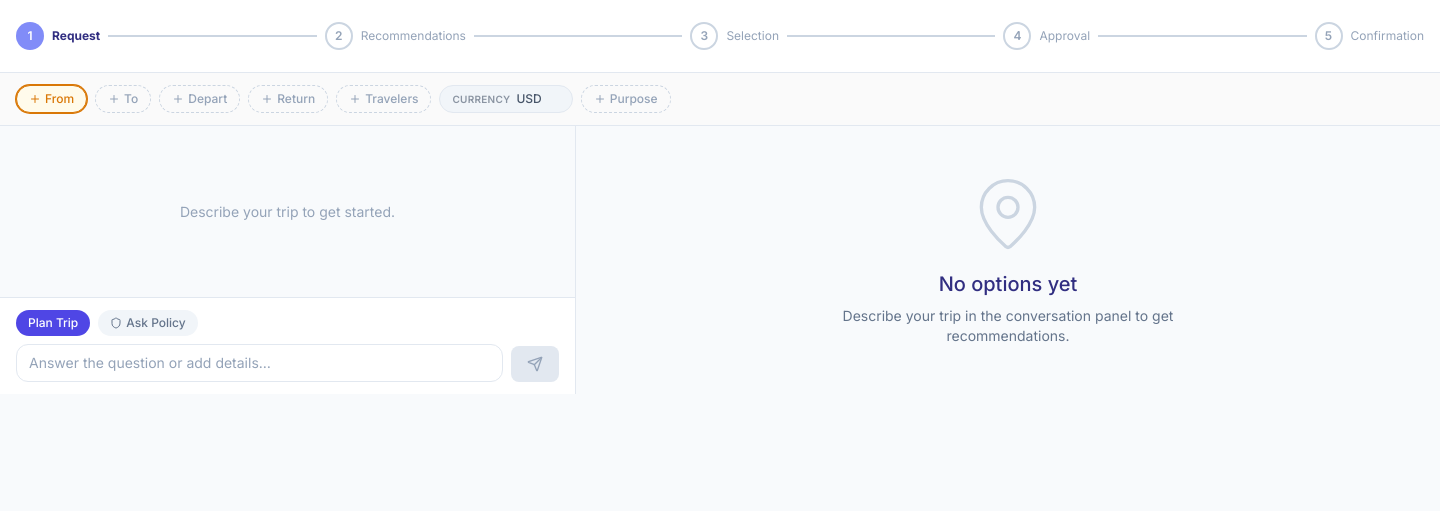
Test: C7-07 PlannerScreen Ask Policy › renders a needs_review answer text + citation + caution label, never the placeholder
Click the button "Ask Policy".
click(148, 323)  # box [98,310,198,336]
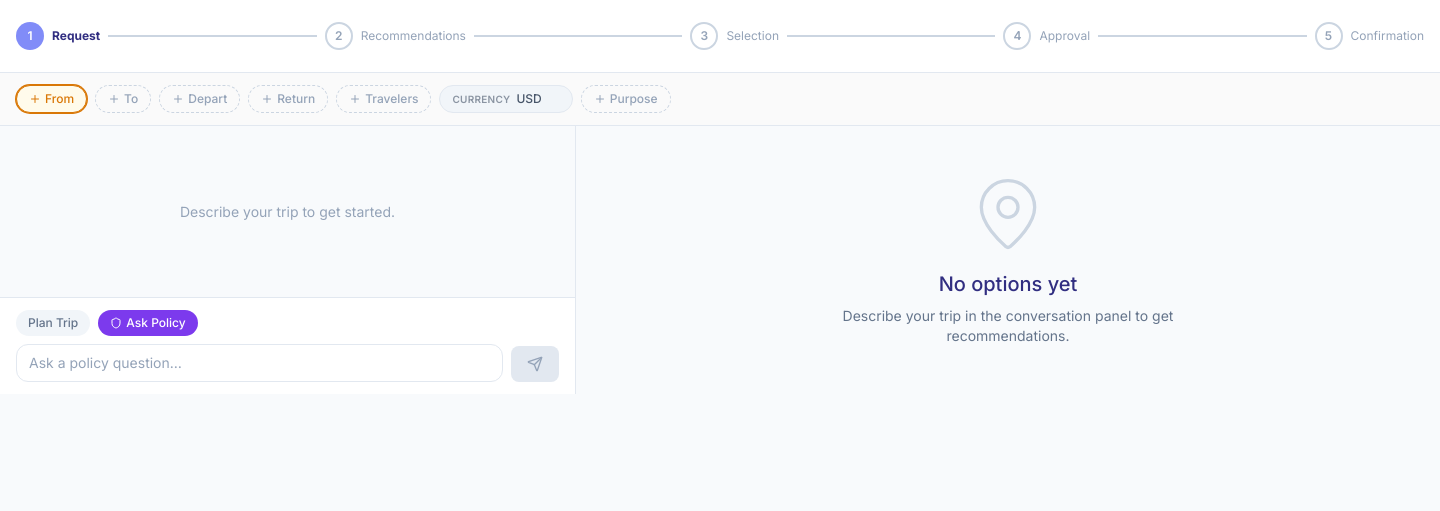
Type "What is the daily meal per diem?" into the text box.
click(260, 363); type("What is the daily meal per diem?")  # box [16,344,503,382]
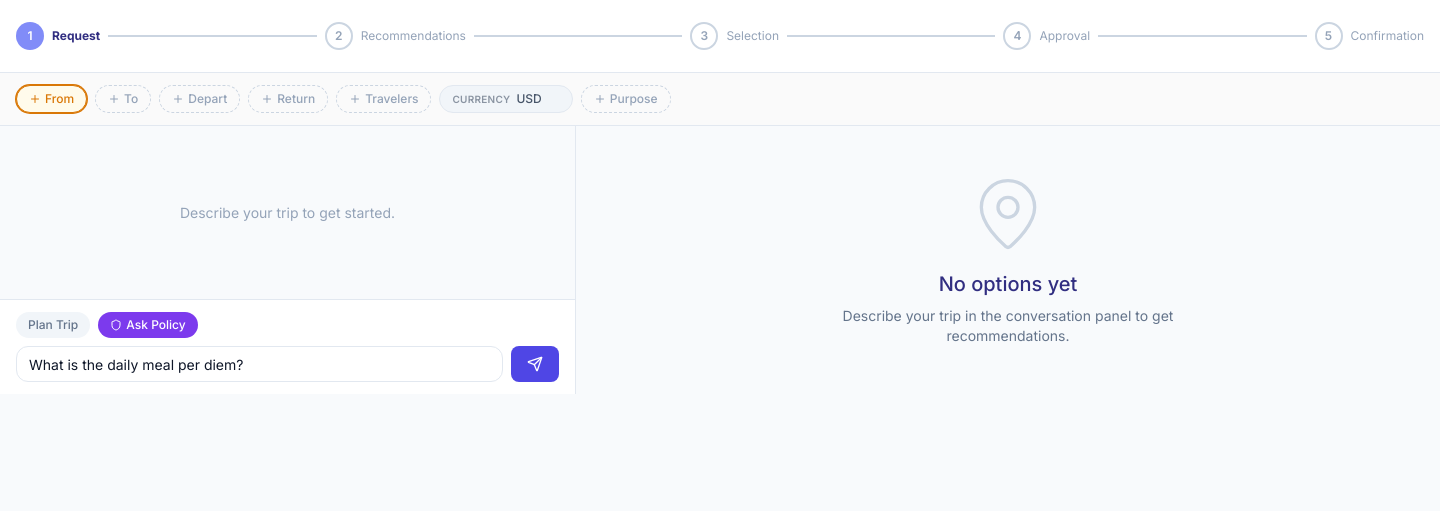
Press Enter in the text box, box [16,346,503,382]
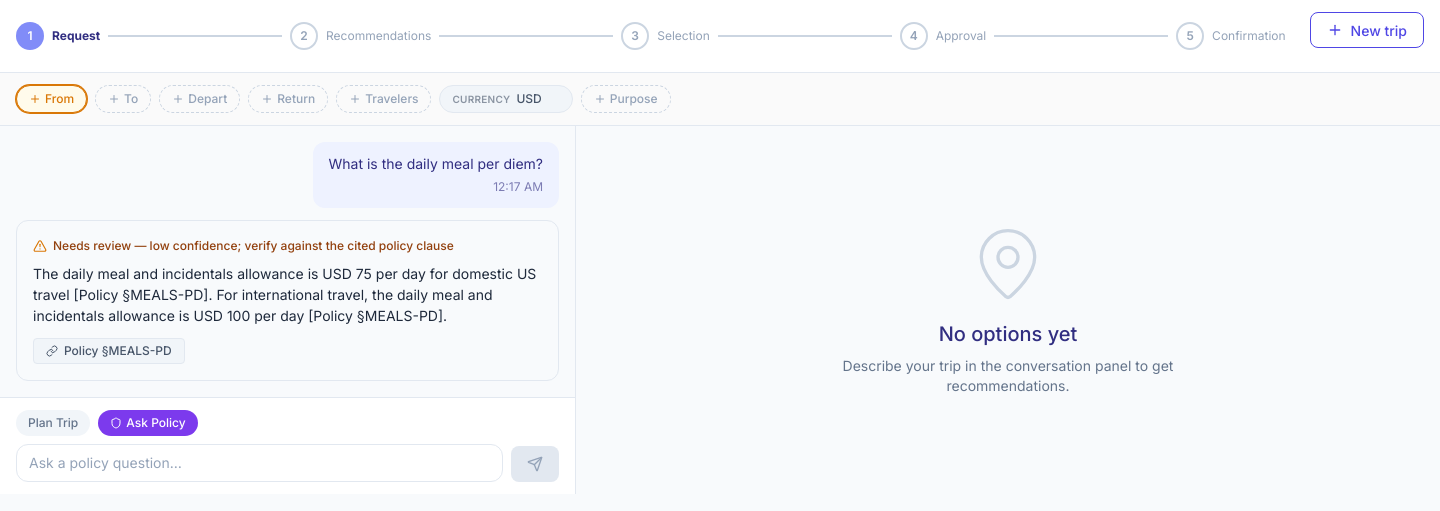
Check: the text "Needs review — low confidence" is shown, box [53,238,454,253]
Check: the text "MEALS-PD" is shown, box [33,265,536,324]
